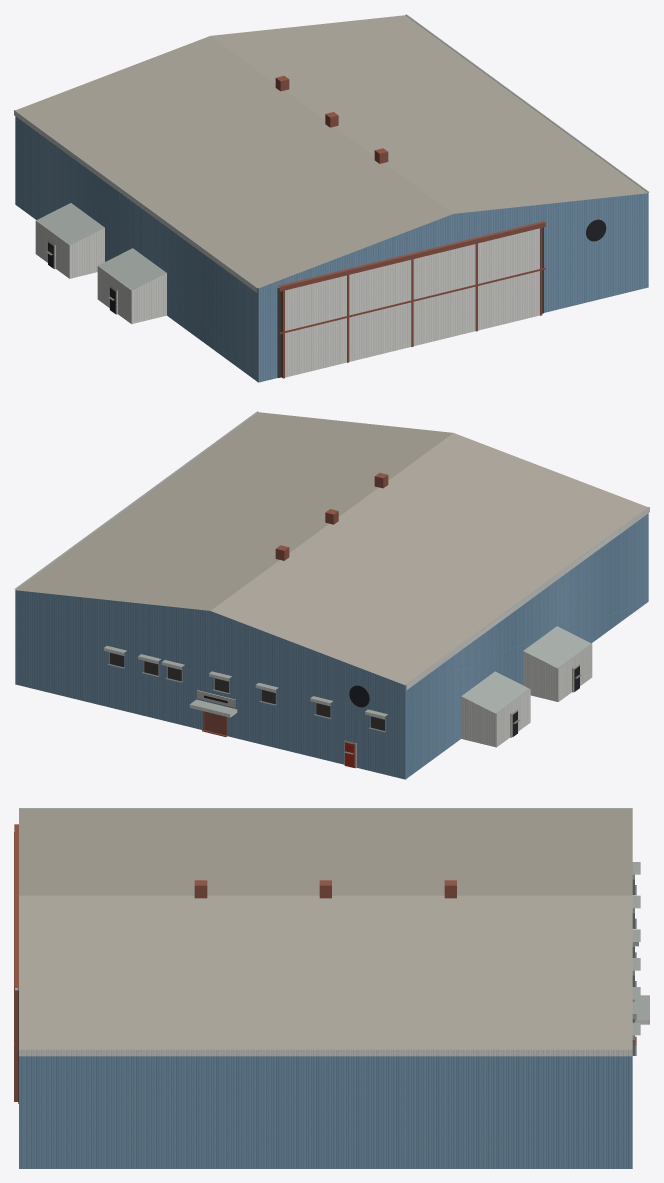
Rendered from cyxd_hangar7_lod1.gltf.
3 renders of one model, top to bottom at view 1: azimuth 30°, elevation 25°; view 2: azimuth 150°, elevation 25°; view 3: azimuth 270°, elevation 25°, orthographic. The views are drawn at different scales.
Visible parts, largest first — view 1: cyxd_hangar7; view 2: cyxd_hangar7; view 3: cyxd_hangar7.
Boxes of the visible parts, left/top/right/bottom form: cyxd_hangar7: left=14, top=14, right=649, bottom=382; cyxd_hangar7: left=14, top=411, right=649, bottom=779; cyxd_hangar7: left=14, top=808, right=649, bottom=1168.
Bounding box in the file's own units: 40.22 × 11.7 × 40.72.
